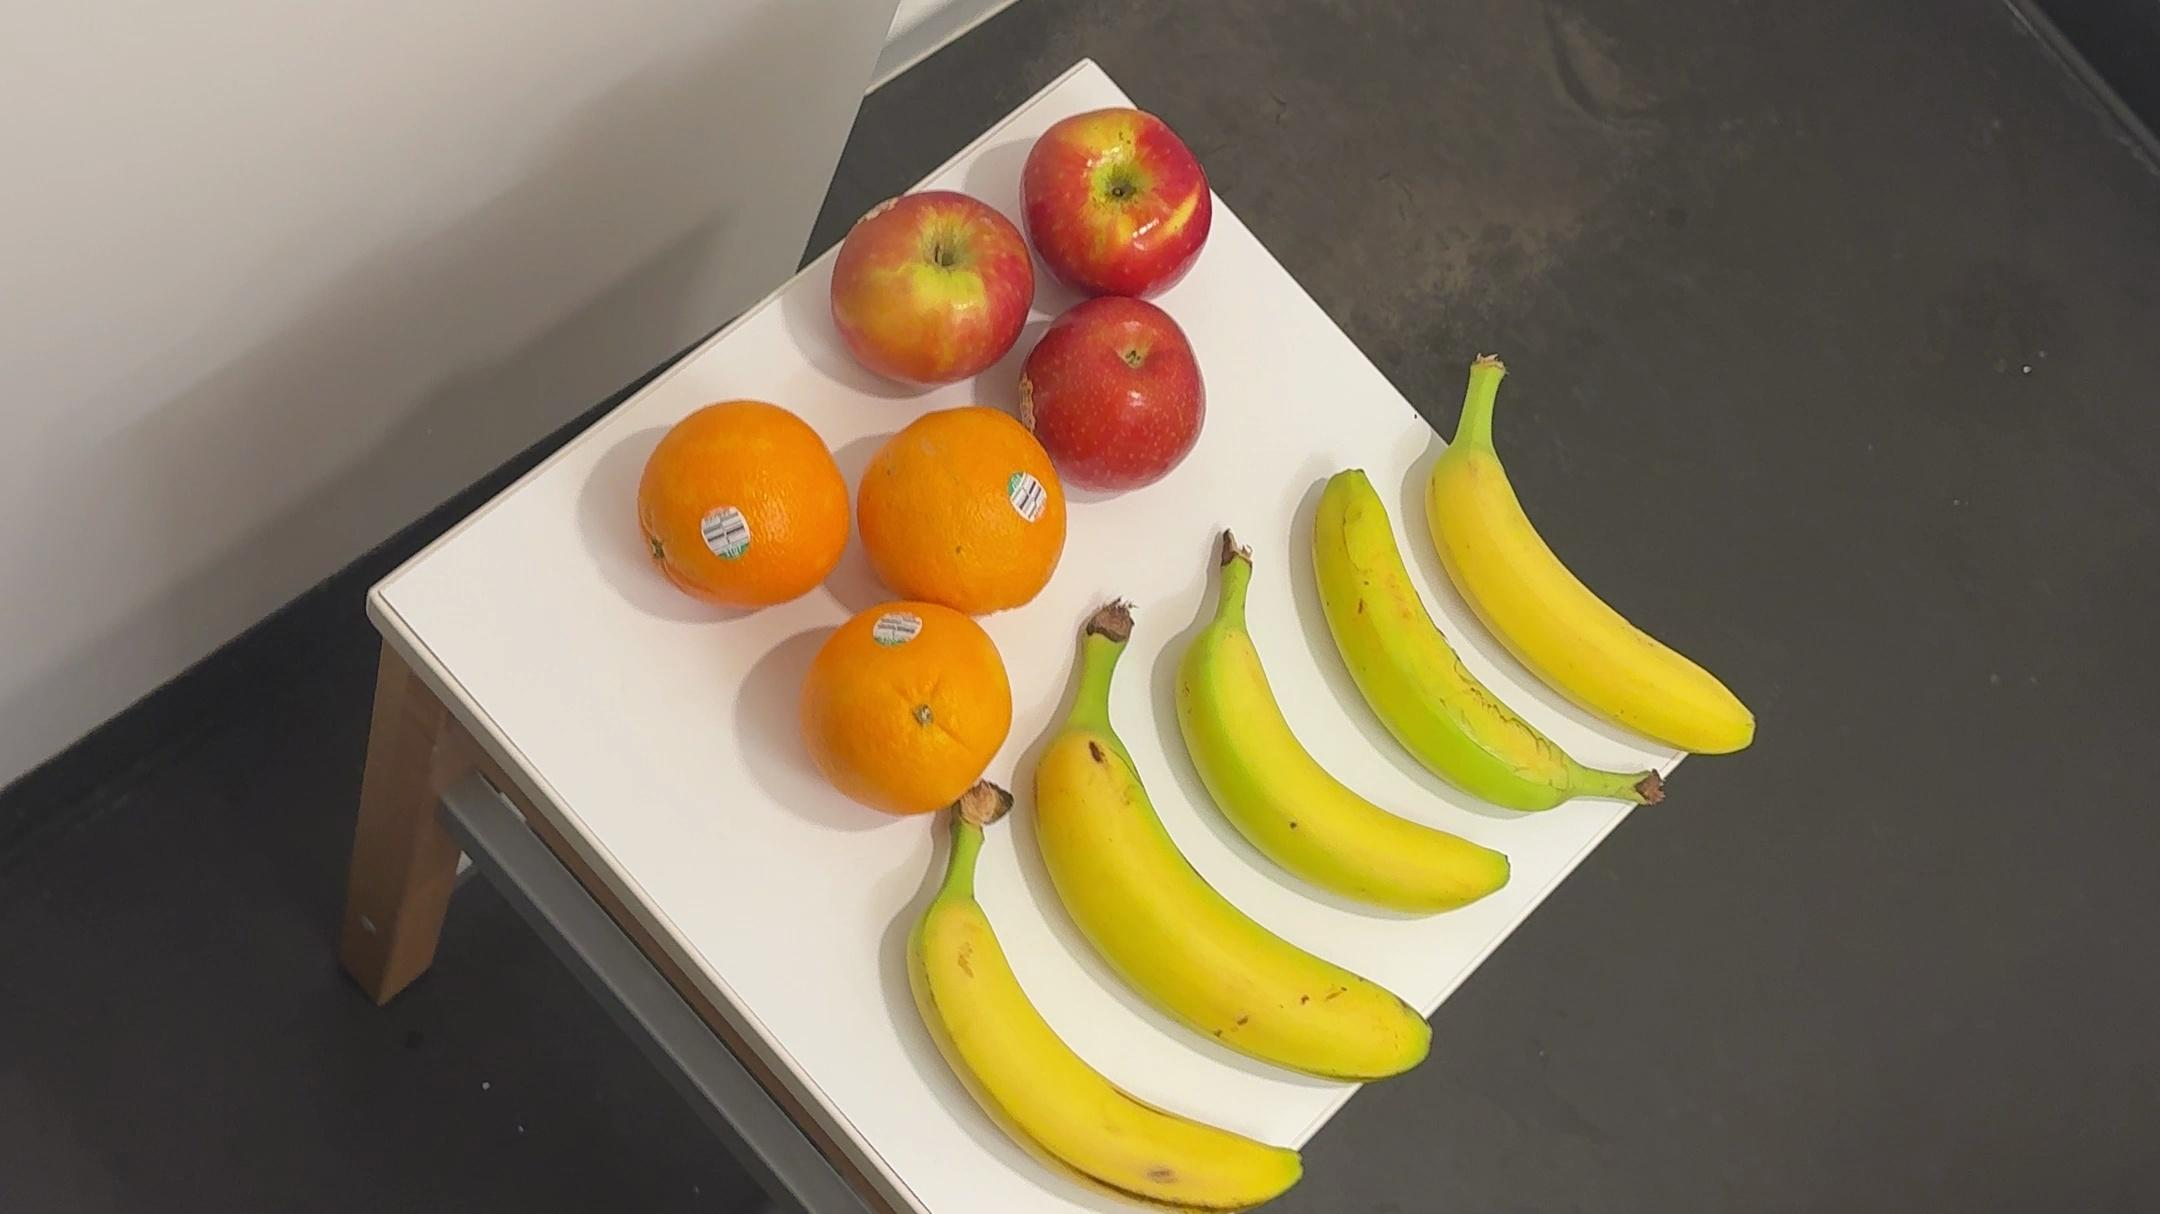apple: (826, 191, 1021, 396), (1021, 295, 1211, 500), (1024, 108, 1219, 303)
banana: (997, 603, 1436, 1089), (872, 791, 1311, 1213), (1405, 355, 1768, 761), (1169, 539, 1518, 922), (1295, 457, 1667, 815)
orange: (795, 603, 1019, 825), (642, 398, 856, 617), (855, 404, 1061, 613)
